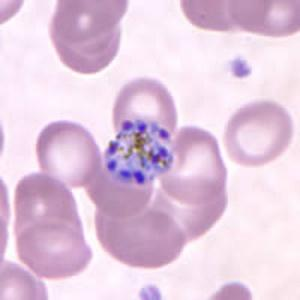Infected: (101, 118, 178, 186)
Uninfected: (11, 170, 81, 250), (160, 123, 224, 204), (224, 99, 294, 168), (102, 208, 182, 268), (150, 179, 224, 241), (18, 218, 92, 280), (87, 151, 154, 217), (114, 79, 174, 151), (36, 119, 98, 185), (52, 13, 118, 74), (56, 0, 122, 44)
